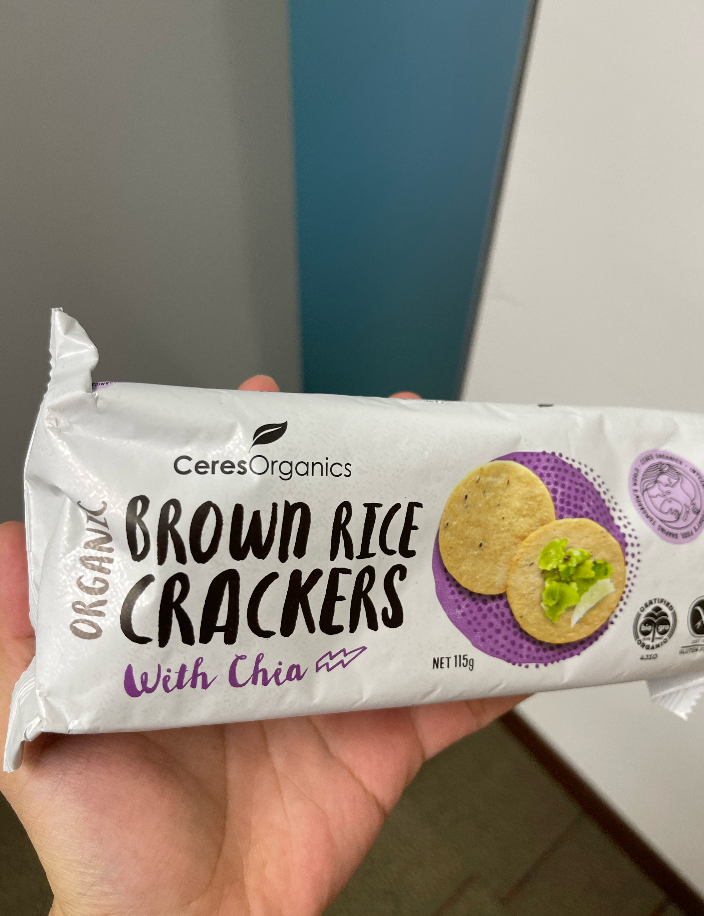crackers_100g-199g: (71, 409, 674, 704)
